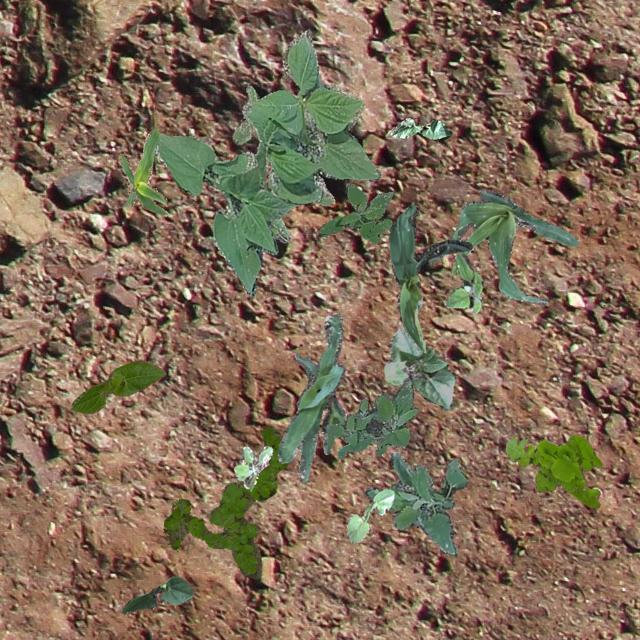crop: (154, 28, 380, 294), (430, 188, 578, 304), (388, 204, 470, 352), (276, 313, 344, 482), (384, 326, 454, 409), (70, 360, 164, 412), (119, 127, 168, 215), (120, 574, 192, 612), (346, 488, 394, 542), (388, 116, 451, 140)
weed: (162, 426, 288, 578), (232, 82, 334, 242), (364, 452, 466, 554), (324, 376, 416, 458), (504, 434, 602, 506), (318, 182, 392, 242), (444, 252, 482, 312), (232, 444, 272, 490)
